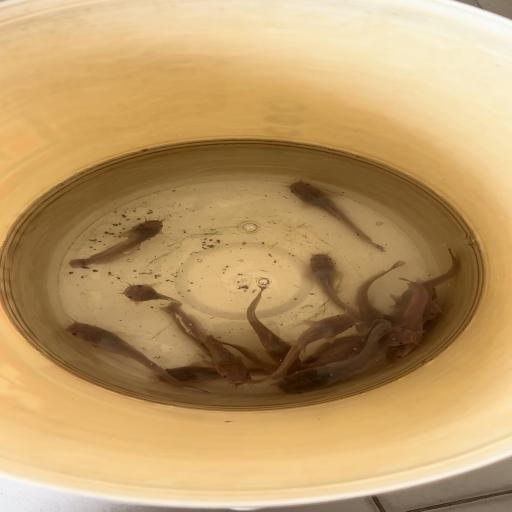lele: (63, 319, 210, 396), (276, 318, 390, 397), (242, 313, 356, 386), (287, 179, 386, 253), (165, 302, 253, 385), (245, 284, 305, 368), (69, 220, 168, 270), (390, 248, 462, 306), (302, 327, 417, 363), (384, 278, 430, 362), (304, 252, 362, 317), (353, 260, 406, 325), (207, 335, 286, 376), (156, 361, 276, 386), (157, 307, 213, 357), (121, 280, 184, 312), (380, 301, 442, 327)
